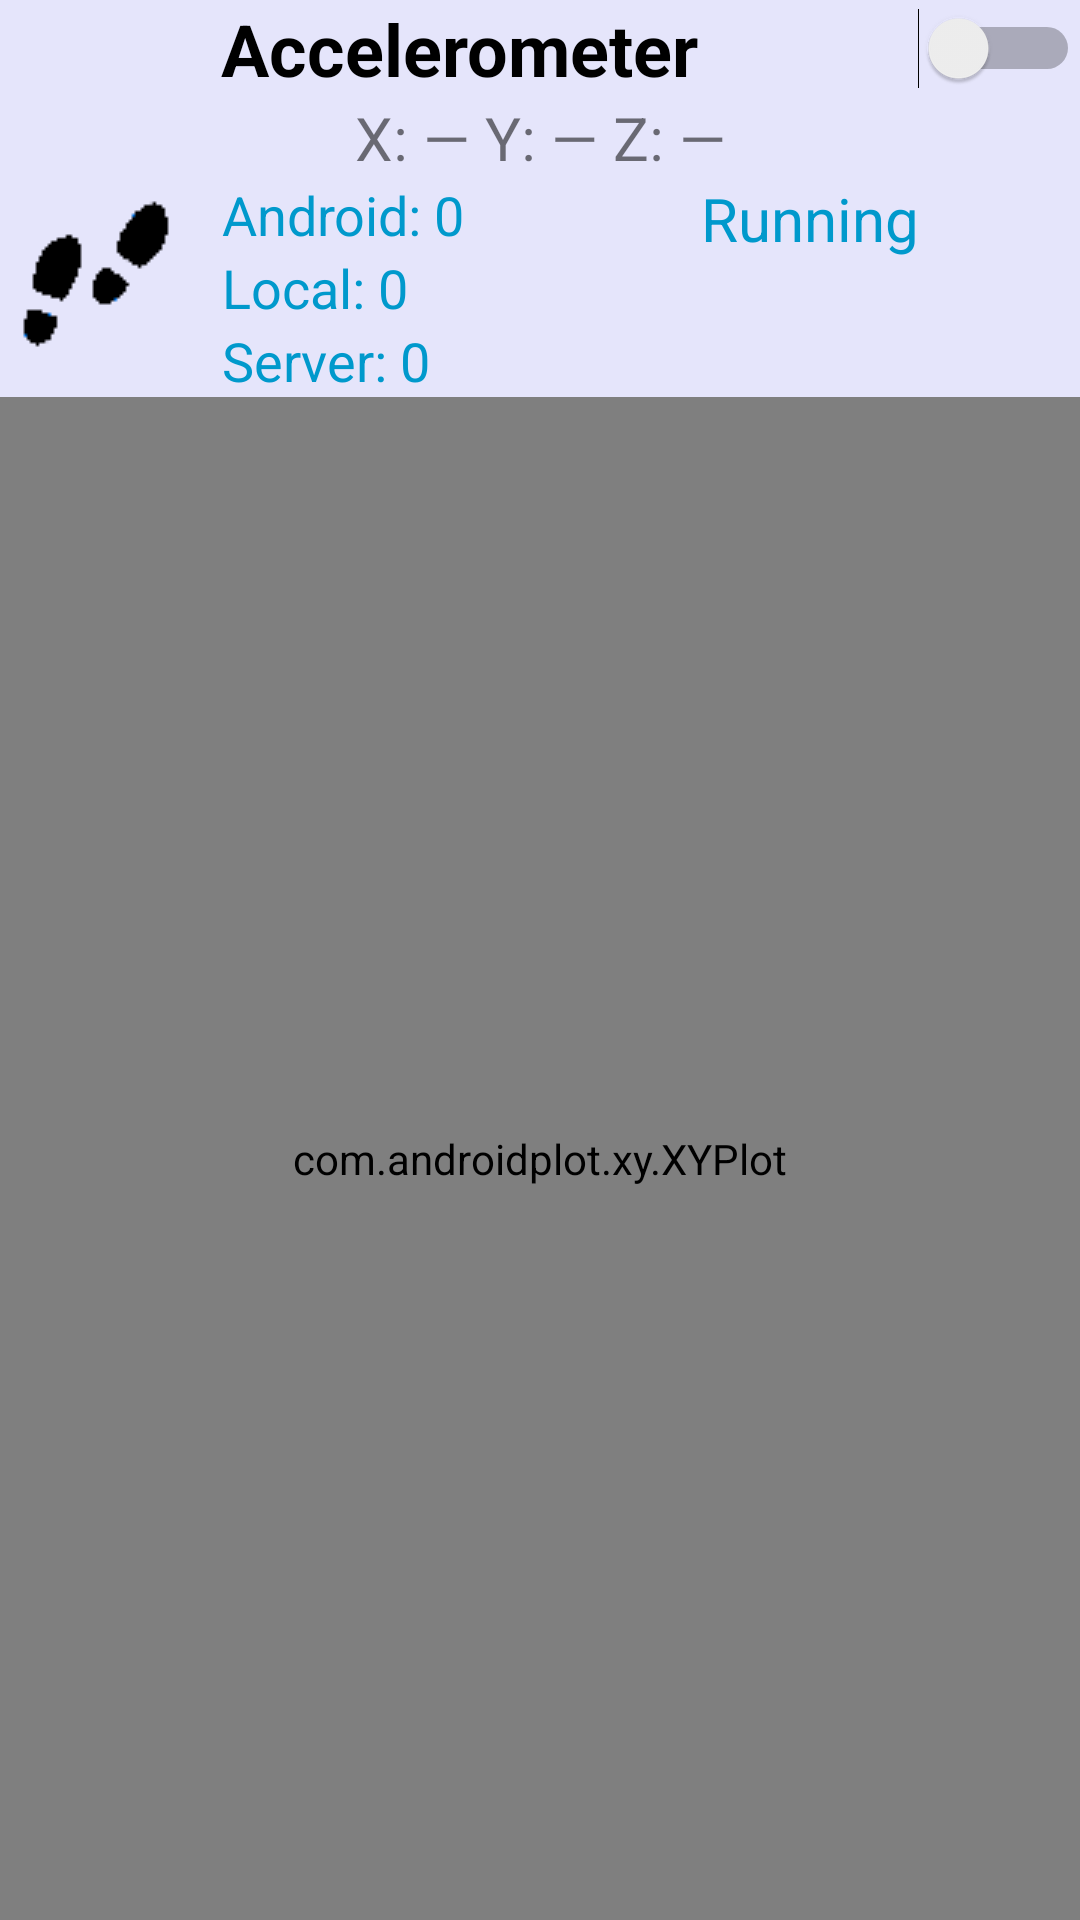

Icon click points for this 1080px x 1920px phone screenshot, format (x=x, y=y):
step: (x=96, y=274)
